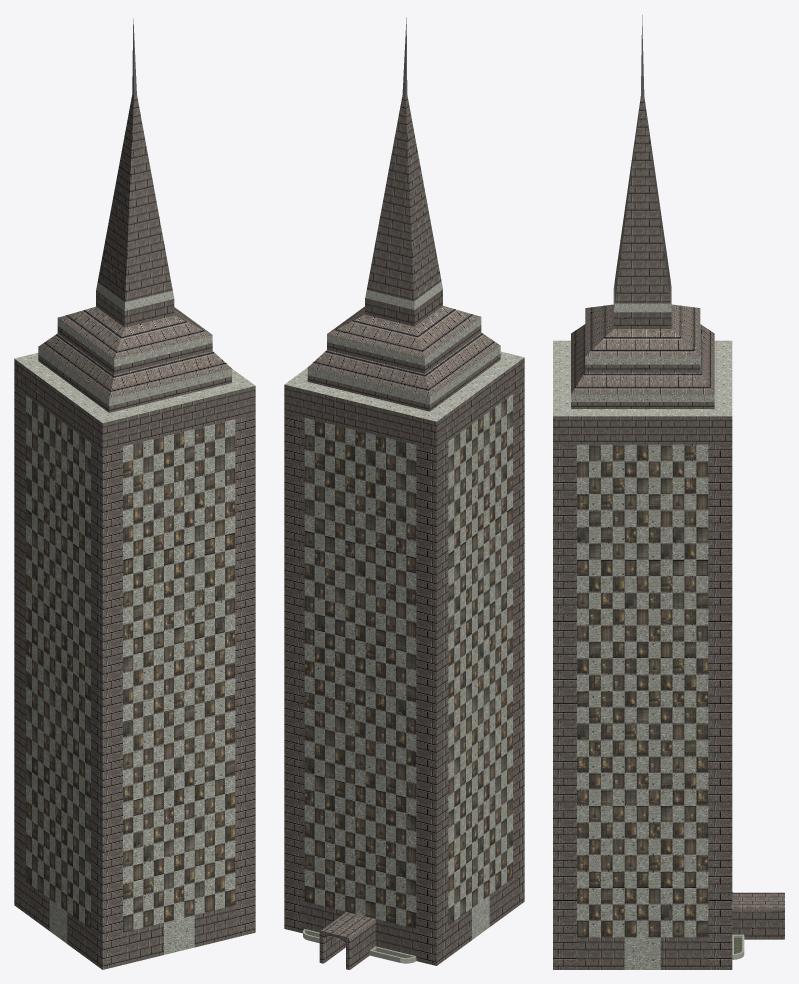
The model's file is City_Large_Building_1.glb.
3 views of the same model, side by side, from view 1: azimuth 30°, elevation 25°; view 2: azimuth 150°, elevation 25°; view 3: azimuth 270°, elevation 25° (orthographic).
Visible parts, largest first — view 1: Walls, Windows.002, Windows.001, Cube.002, Windows, Roof, Walls.001; view 2: Walls, Windows.002, Windows.001, Cube.002, Windows, Roof, Walls.001; view 3: Walls, Windows.002, Windows.001, Cube.002, Windows, Roof, Walls.001.
Part boxes in pixels (x1=…): Walls: x1=26, y1=395, x2=235, y2=964; Windows.002: x1=26, y1=401, x2=234, y2=912; Windows.001: x1=14, y1=387, x2=255, y2=969; Cube.002: x1=38, y1=18, x2=231, y2=412; Windows: x1=26, y1=400, x2=235, y2=913; Roof: x1=14, y1=353, x2=255, y2=451; Walls.001: x1=26, y1=867, x2=234, y2=930; Walls: x1=303, y1=394, x2=512, y2=969; Windows.002: x1=305, y1=399, x2=512, y2=908; Windows.001: x1=284, y1=385, x2=524, y2=965; Cube.002: x1=307, y1=17, x2=500, y2=411; Windows: x1=304, y1=398, x2=512, y2=909; Roof: x1=284, y1=351, x2=524, y2=449; Walls.001: x1=305, y1=863, x2=512, y2=927; Walls: x1=577, y1=444, x2=784, y2=969; Windows.002: x1=577, y1=446, x2=707, y2=919; Windows.001: x1=553, y1=444, x2=732, y2=969; Cube.002: x1=571, y1=15, x2=714, y2=408; Windows: x1=577, y1=444, x2=708, y2=920; Roof: x1=553, y1=340, x2=732, y2=444; Walls.001: x1=577, y1=922, x2=707, y2=935.
Bounding box in the file's own units: 21.55 × 122 × 27.89.
Materials: 37 (34 with a texture image).
